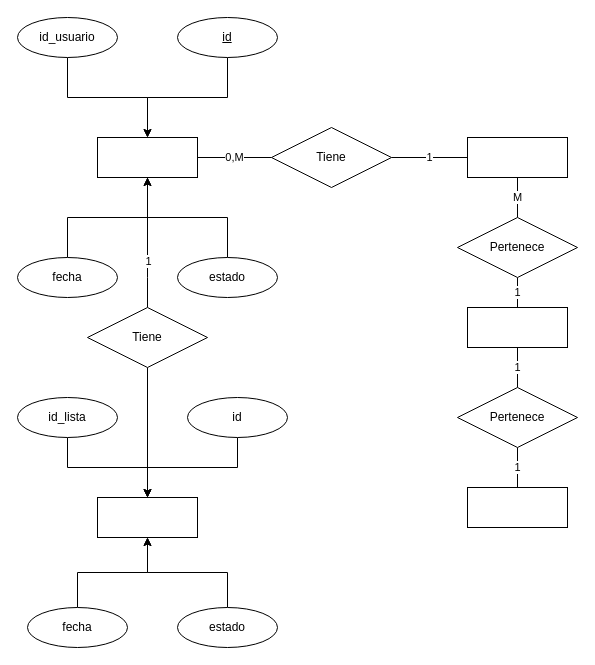
This 595x665 diagram has some shape labels left out. The centre of each missing label's shape, as x and y in pixels:
"Departamento" belongs at point 517,327.
"Gerencia" belongs at point 517,507.
"Lista" belongs at point 147,157.
"Tareas" belongs at point 147,517.
"Usuario" belongs at point 517,157.
